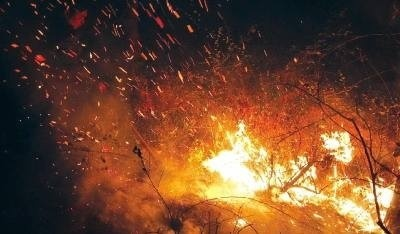fire: (200, 119, 396, 223)
